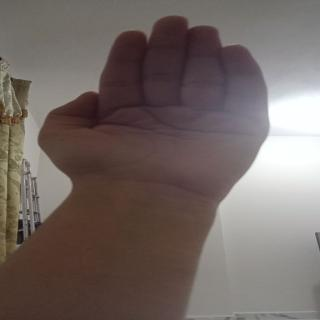SEEN: (35, 11, 280, 195)
